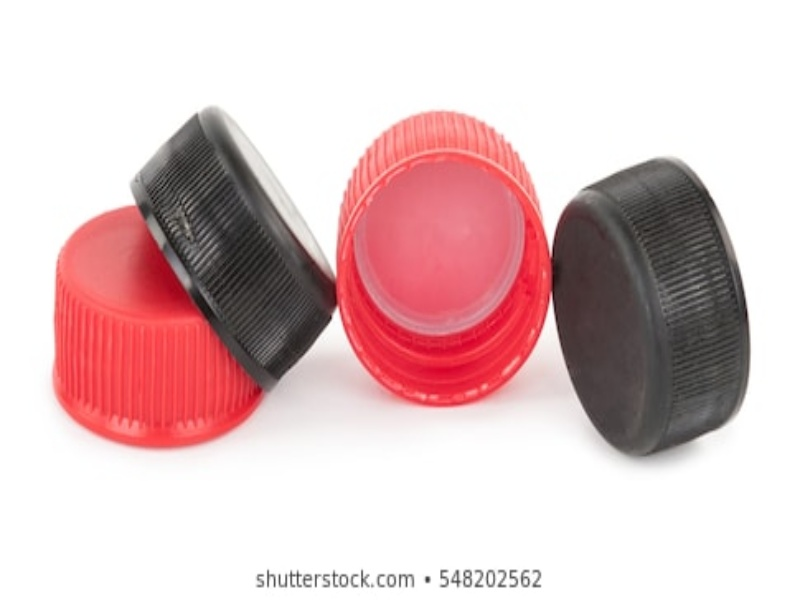bottle-cap: (333, 111, 554, 412), (549, 152, 752, 463), (127, 104, 342, 392), (53, 199, 274, 451)
